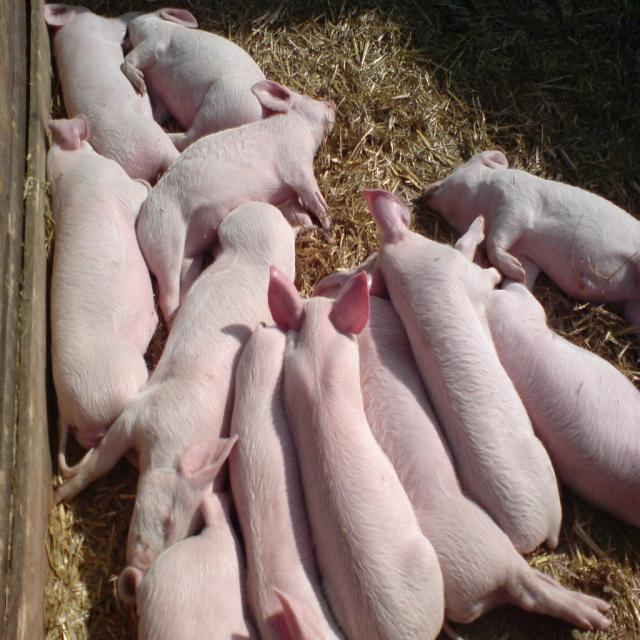Pig: (41, 2, 640, 640)
